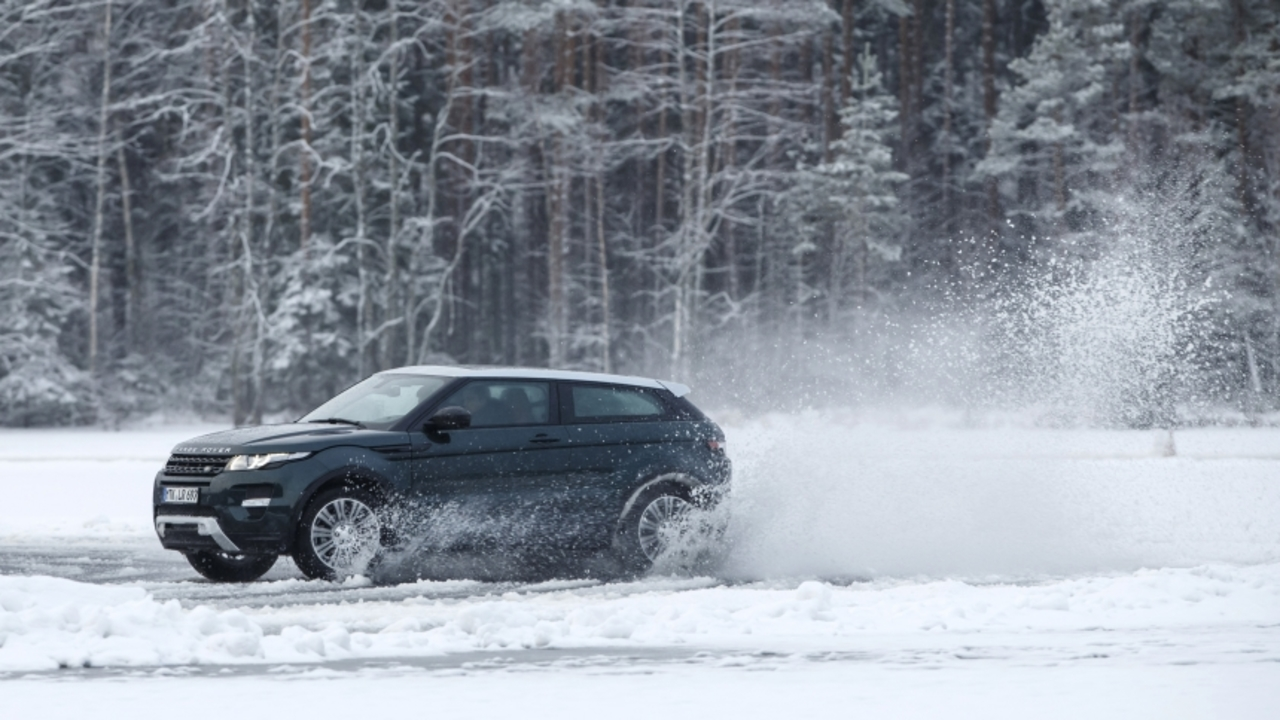car: (159, 362, 741, 589)
